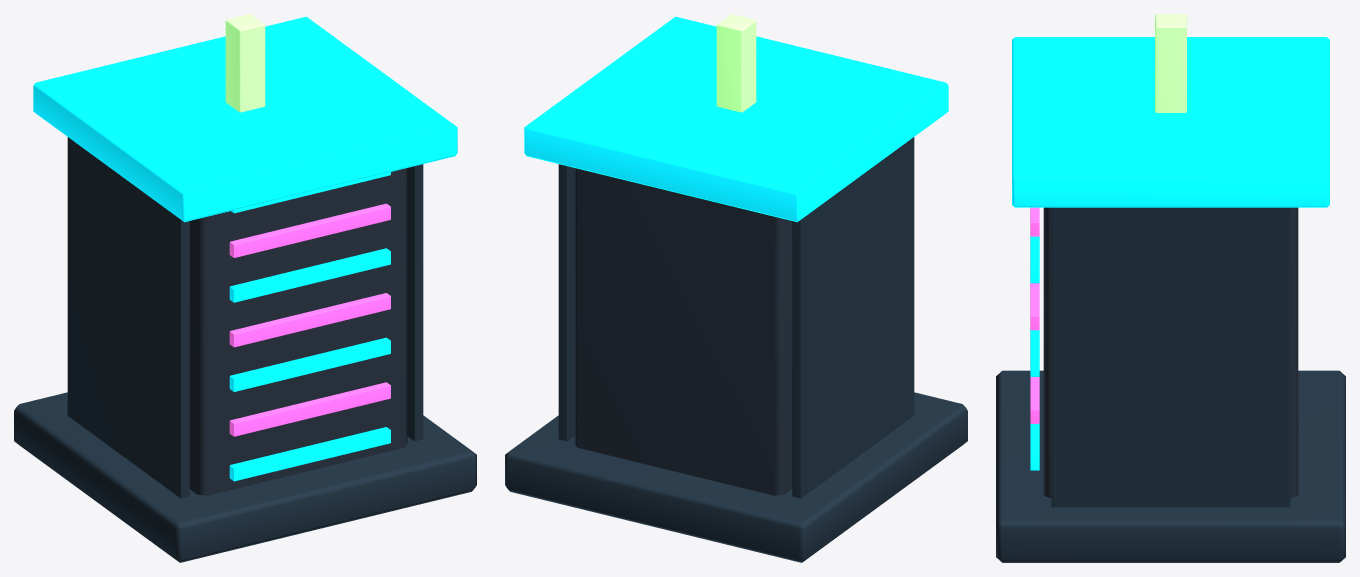
The model's file is skyline_tower.glb.
The picture shows the model from 3 angles, left to right: view 1: azimuth 30°, elevation 25°; view 2: azimuth 150°, elevation 25°; view 3: azimuth 270°, elevation 25°; orthographic projection. The views are drawn at different scales.
Visible parts, largest first — view 1: TowerCrown, TowerCore, TowerSideRibB, TowerBase, TowerSideRibA, TowerAntenna, TowerWindowA, TowerWindowC, TowerWindowD, TowerWindowE, TowerWindowF, TowerWindowB (+1 smaller); view 2: TowerCore, TowerCrown, TowerSideRibB, TowerBase, TowerSideRibA, TowerAntenna; view 3: TowerSideRibA, TowerCrown, TowerBase, TowerCore, TowerAntenna, TowerWindowD, TowerWindowE, TowerWindowA, TowerWindowB, TowerWindowC.
Boxes of the visible parts, <box> form: TowerCrown: <box>33,16,457,222</box>; TowerCore: <box>189,168,407,495</box>; TowerSideRibB: <box>67,137,189,498</box>; TowerBase: <box>14,392,476,562</box>; TowerSideRibA: <box>407,164,423,441</box>; TowerAntenna: <box>225,14,265,112</box>; TowerWindowA: <box>229,427,390,481</box>; TowerWindowC: <box>229,337,390,391</box>; TowerWindowD: <box>229,293,390,347</box>; TowerWindowE: <box>229,248,390,302</box>; TowerWindowF: <box>229,203,390,257</box>; TowerWindowB: <box>229,382,390,436</box>; TowerCore: <box>574,168,792,495</box>; TowerCrown: <box>524,16,948,222</box>; TowerSideRibB: <box>792,137,914,498</box>; TowerBase: <box>505,392,967,562</box>; TowerSideRibA: <box>558,164,574,441</box>; TowerAntenna: <box>716,14,756,112</box>; TowerSideRibA: <box>1051,207,1290,507</box>; TowerCrown: <box>1012,37,1329,207</box>; TowerBase: <box>996,370,1345,562</box>; TowerCore: <box>1043,207,1298,498</box>; TowerAntenna: <box>1155,14,1186,112</box>; TowerWindowD: <box>1030,283,1039,330</box>; TowerWindowE: <box>1030,236,1039,283</box>; TowerWindowA: <box>1030,423,1039,470</box>; TowerWindowB: <box>1030,377,1039,423</box>; TowerWindowC: <box>1030,330,1039,376</box>.
Size of the model in its own units: 0.46 by 0.65 by 0.44.
